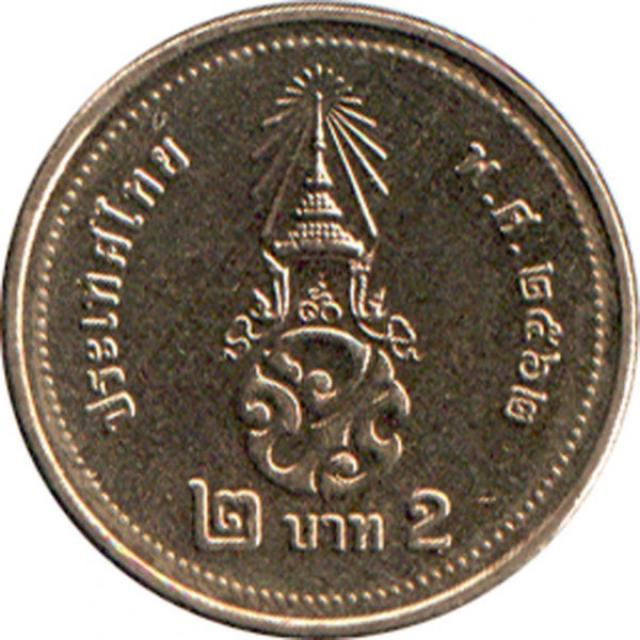2 Bath: (1, 5, 640, 640)
